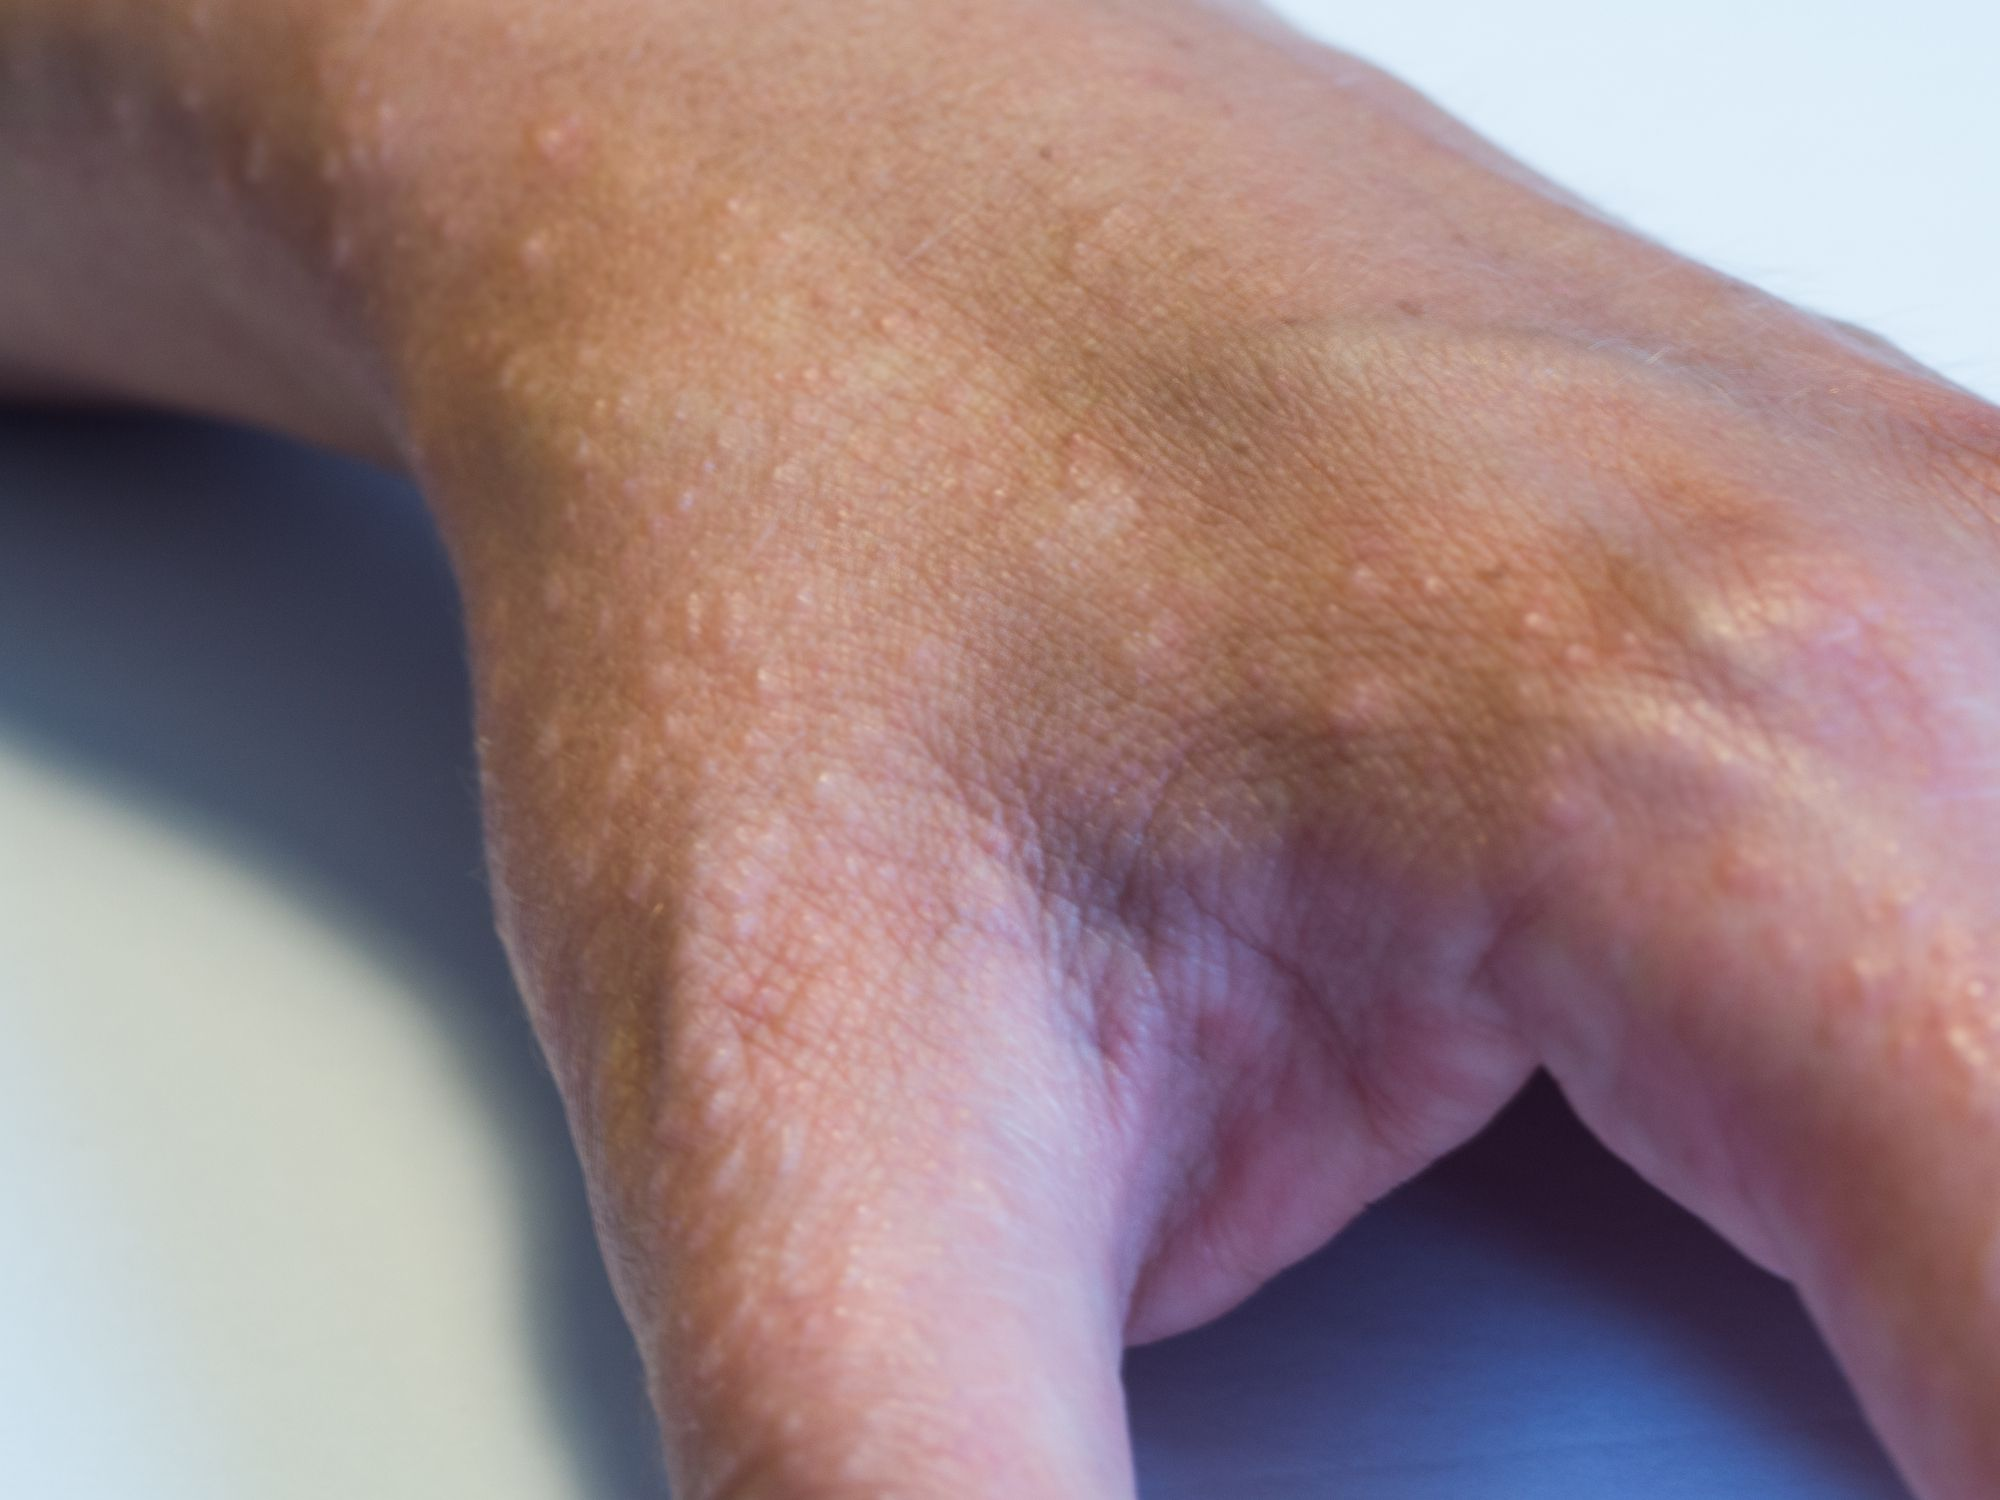Diseased: (268, 76, 1969, 1394)
